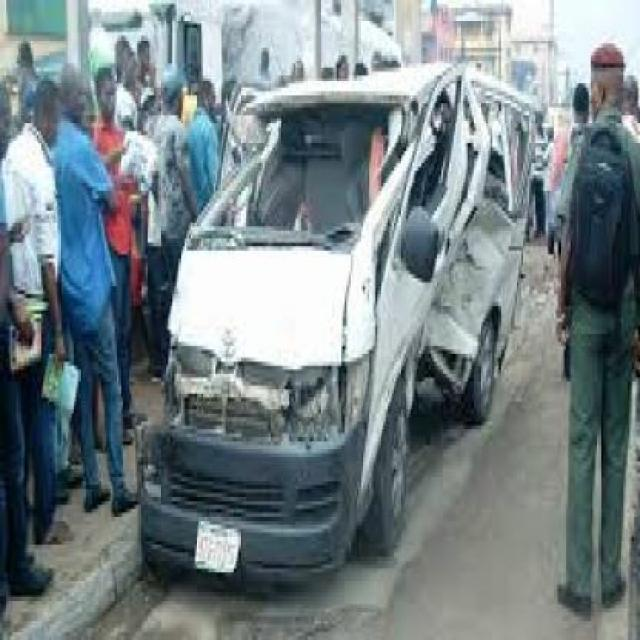accident: (150, 64, 539, 601)
